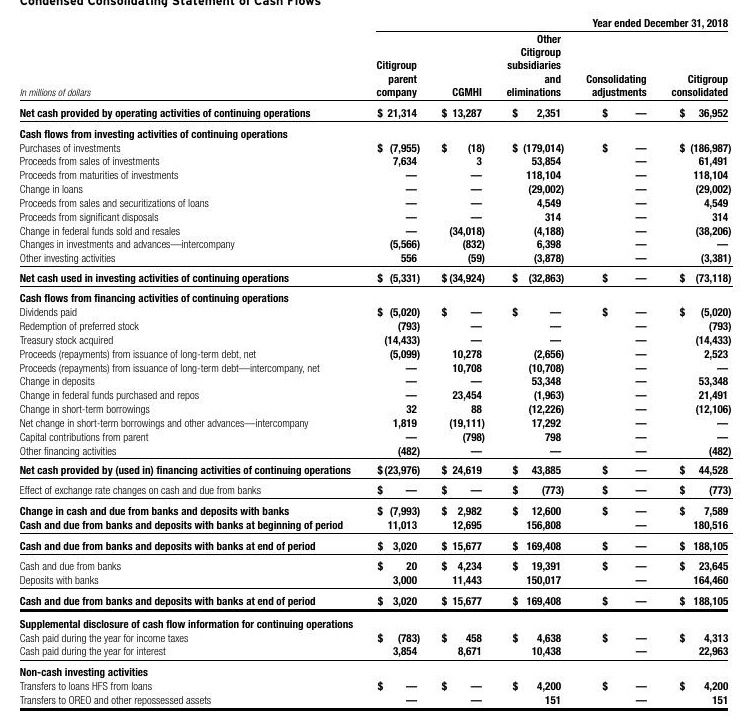table: (0, 0, 746, 726)
